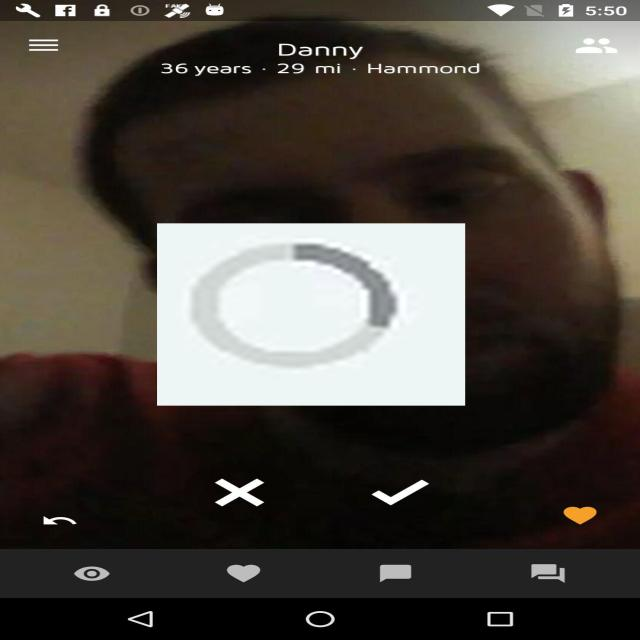misdirection: (157, 223, 465, 406)
